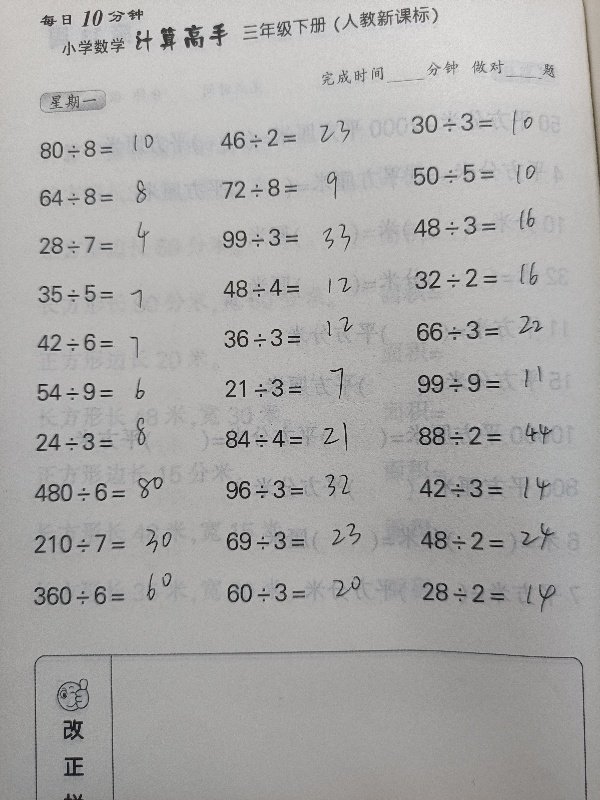equation: (412, 516, 592, 558), (30, 178, 188, 219), (216, 370, 396, 405), (34, 128, 180, 170), (25, 578, 205, 612), (218, 575, 398, 609), (413, 575, 593, 609), (25, 526, 205, 560), (217, 523, 397, 557), (25, 475, 205, 509), (217, 472, 397, 506), (411, 471, 591, 505), (408, 419, 588, 453), (408, 366, 588, 400), (215, 320, 395, 354), (407, 313, 587, 347), (214, 271, 394, 305), (406, 261, 586, 295), (404, 209, 584, 243), (212, 171, 392, 205), (404, 157, 584, 191), (402, 105, 582, 139), (27, 425, 207, 458), (216, 422, 396, 455), (28, 375, 208, 408), (29, 326, 209, 359), (29, 277, 209, 310), (32, 229, 212, 262), (214, 221, 394, 254), (212, 122, 392, 155)
